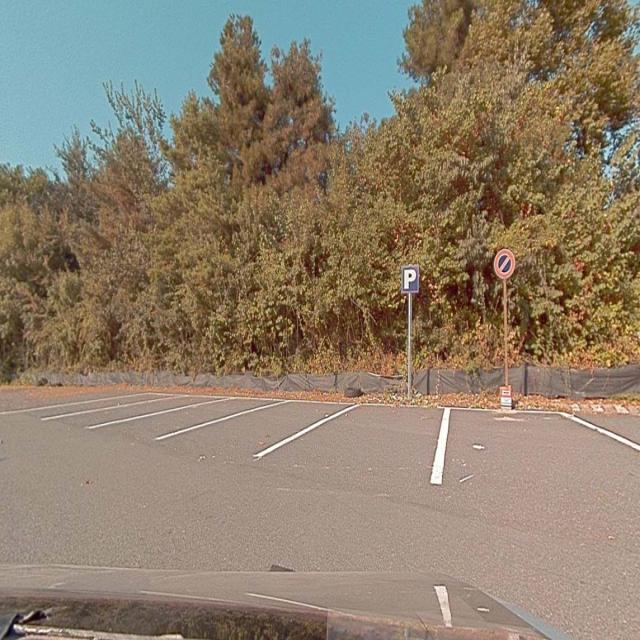park: (403, 269, 418, 292)
parkyasak: (494, 249, 515, 277)
